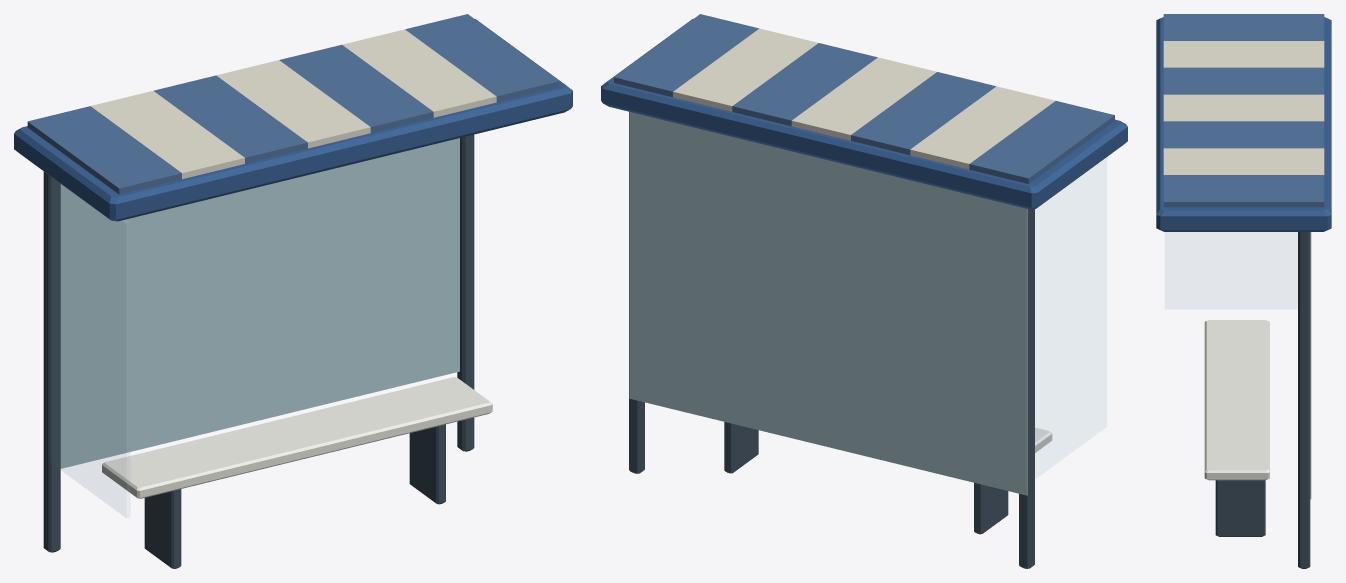
File: v18_street_bus_shelter.glb
3 renders of one model, left to right at view 1: azimuth 30°, elevation 25°; view 2: azimuth 150°, elevation 25°; view 3: azimuth 270°, elevation 25°, orthographic. The views are drawn at different scales.
Parts seen in each view (by area): view 1: _MeshInstance3D_4264, _MeshInstance3D_4265, _MeshInstance3D_4263, _MeshInstance3D_4261, _MeshInstance3D_4271, _MeshInstance3D_4276, _MeshInstance3D_4275, _MeshInstance3D_4277, _MeshInstance3D_4273, _MeshInstance3D_4272, _MeshInstance3D_4274, _MeshInstance3D_4262 (+2 smaller); view 2: _MeshInstance3D_4264, _MeshInstance3D_4263, _MeshInstance3D_4271, _MeshInstance3D_4272, _MeshInstance3D_4274, _MeshInstance3D_4275, _MeshInstance3D_4276, _MeshInstance3D_4273, _MeshInstance3D_4277, _MeshInstance3D_4261, _MeshInstance3D_4262, _MeshInstance3D_4267 (+1 smaller); view 3: _MeshInstance3D_4265, _MeshInstance3D_4263, _MeshInstance3D_4277, _MeshInstance3D_4273, _MeshInstance3D_4275, _MeshInstance3D_4274, _MeshInstance3D_4262, _MeshInstance3D_4271, _MeshInstance3D_4272, _MeshInstance3D_4276, _MeshInstance3D_4267, _MeshInstance3D_4264.
Part boxes in pixels (x1,y1,x2,y2): _MeshInstance3D_4264: (60, 138, 459, 468); _MeshInstance3D_4265: (102, 377, 492, 498); _MeshInstance3D_4263: (14, 19, 572, 221); _MeshInstance3D_4261: (43, 171, 60, 552); _MeshInstance3D_4271: (27, 106, 181, 194); _MeshInstance3D_4276: (342, 29, 496, 117); _MeshInstance3D_4275: (279, 44, 433, 132); _MeshInstance3D_4277: (405, 14, 559, 102); _MeshInstance3D_4273: (153, 75, 307, 163); _MeshInstance3D_4272: (91, 91, 244, 179); _MeshInstance3D_4274: (216, 60, 370, 148); _MeshInstance3D_4262: (457, 134, 474, 451); _MeshInstance3D_4264: (629, 112, 1027, 495); _MeshInstance3D_4263: (601, 18, 1127, 209); _MeshInstance3D_4271: (969, 101, 1114, 183); _MeshInstance3D_4272: (910, 86, 1055, 169); _MeshInstance3D_4274: (791, 57, 936, 140); _MeshInstance3D_4275: (732, 43, 877, 126); _MeshInstance3D_4276: (673, 28, 817, 111); _MeshInstance3D_4273: (851, 72, 995, 154); _MeshInstance3D_4277: (614, 14, 759, 97); _MeshInstance3D_4261: (1019, 209, 1034, 568); _MeshInstance3D_4262: (629, 112, 644, 473); _MeshInstance3D_4267: (724, 422, 758, 473); _MeshInstance3D_4265: (1204, 320, 1269, 480); _MeshInstance3D_4263: (1156, 17, 1331, 231); _MeshInstance3D_4277: (1163, 175, 1324, 207); _MeshInstance3D_4273: (1163, 67, 1324, 94); _MeshInstance3D_4275: (1163, 121, 1324, 148); _MeshInstance3D_4274: (1163, 94, 1324, 121); _MeshInstance3D_4262: (1298, 232, 1310, 568); _MeshInstance3D_4271: (1163, 14, 1324, 40); _MeshInstance3D_4272: (1163, 41, 1324, 67); _MeshInstance3D_4276: (1163, 148, 1324, 174); _MeshInstance3D_4267: (1215, 480, 1265, 536); _MeshInstance3D_4264: (1310, 232, 1311, 499).
Size of the model in its own units: 2.86 by 2.5 by 1.07.
